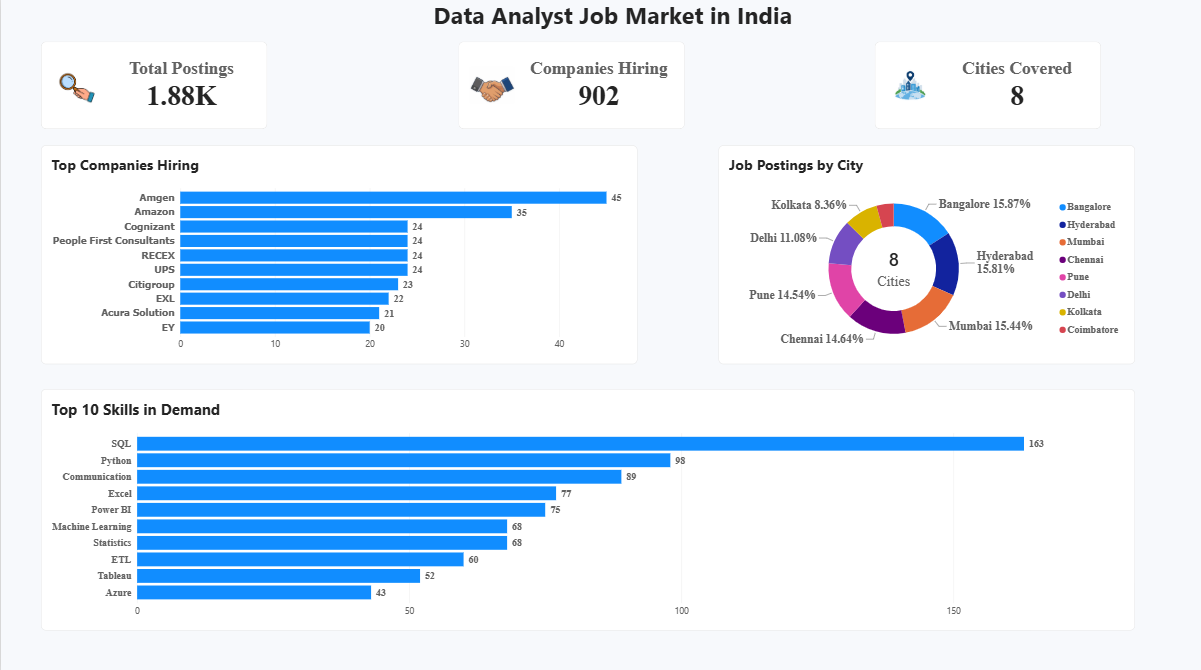

Layout of this report page (visuals, bound fields, positions):
{"tool":"powerbi","page":{"name":"Overview","canvas":[1920,1080],"ordinal":0},"visuals":[{"type":"clusteredBarChart","title":"Top 10 Skills in Demand","fields":{"Category":["posting_skills.skill"],"Y":["CountNonNull(posting_skills.skill)"]},"box":[64,624,1750,386],"z":0},{"type":"donutChart","title":"Job Postings by City","fields":{"Category":["postings.city_query"],"Y":["CountNonNull(postings.city_query)"]},"box":[1148,234,666,350],"z":1000},{"type":"cardVisual","fields":{"Data":["Count(postings.id)"]},"box":[64,68,362,140],"z":2000},{"type":"clusteredBarChart","title":"Top Companies Hiring","fields":{"Category":["postings.company"],"Y":["CountNonNull(postings.company)"]},"box":[64,234,954,350],"z":3000},{"type":"textbox","box":[584,0,790,64],"z":4000},{"type":"cardVisual","fields":{"Data":["Count(postings.company)"]},"box":[731,68,362,140],"z":5000},{"type":"cardVisual","fields":{"Data":["Count(postings.city_query)"]},"box":[1398,68,362,140],"z":6000}]}

Visuals, with their boxes in screenshot pixels (x1, y1, x2, y2), scaled from the page's 1920x1080 canvas onto the 1201x670 screenshot:
"Top 10 Skills in Demand" clusteredBarChart: box=[40, 387, 1135, 627]
"Job Postings by City" donutChart: box=[718, 145, 1135, 362]
cardVisual - Count(postings.id): box=[40, 42, 266, 129]
"Top Companies Hiring" clusteredBarChart: box=[40, 145, 637, 362]
textbox: box=[365, 0, 859, 40]
cardVisual - Count(postings.company): box=[457, 42, 684, 129]
cardVisual - Count(postings.city_query): box=[874, 42, 1101, 129]
